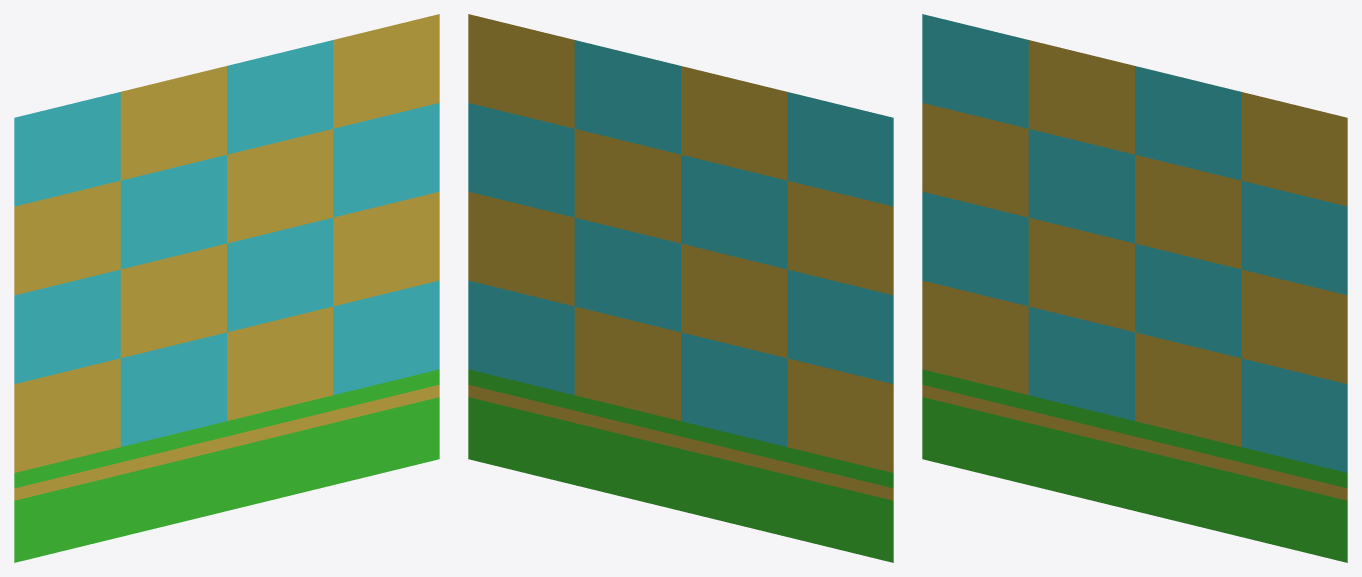
File: Wall_39.fbx
The picture shows the model from 3 angles, left to right: view 1: azimuth 30°, elevation 25°; view 2: azimuth 150°, elevation 25°; view 3: azimuth 330°, elevation 25°; orthographic projection.
Parts seen in each view (by area): view 1: Wall_39; view 2: Wall_39; view 3: Wall_39.
Part boxes in pixels (x1,y1,x2,y2): Wall_39: [14, 14, 439, 562]; Wall_39: [468, 14, 893, 562]; Wall_39: [922, 14, 1347, 562].
Bounding box in the file's own units: 457 × 457 × 1.95e-12.
